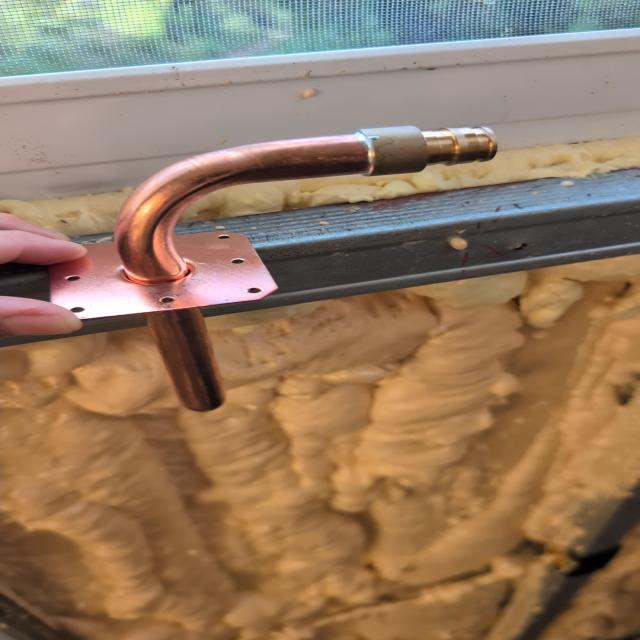wall_flange: (32, 120, 506, 412)
